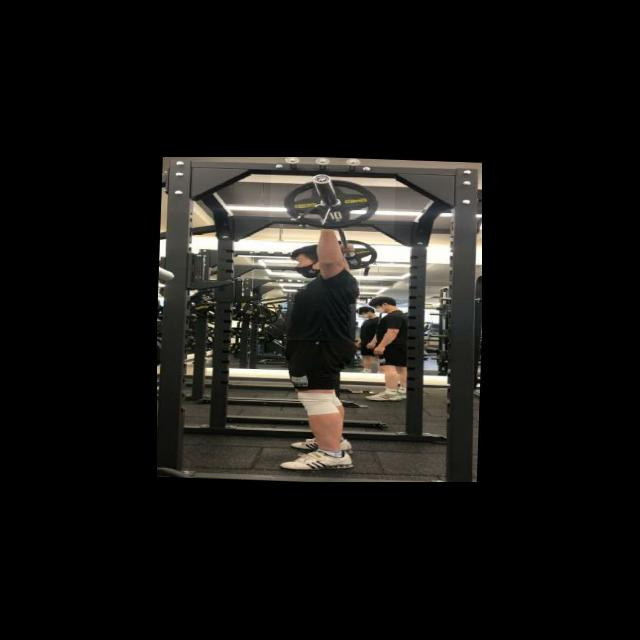barbell: (269, 170, 396, 234)
